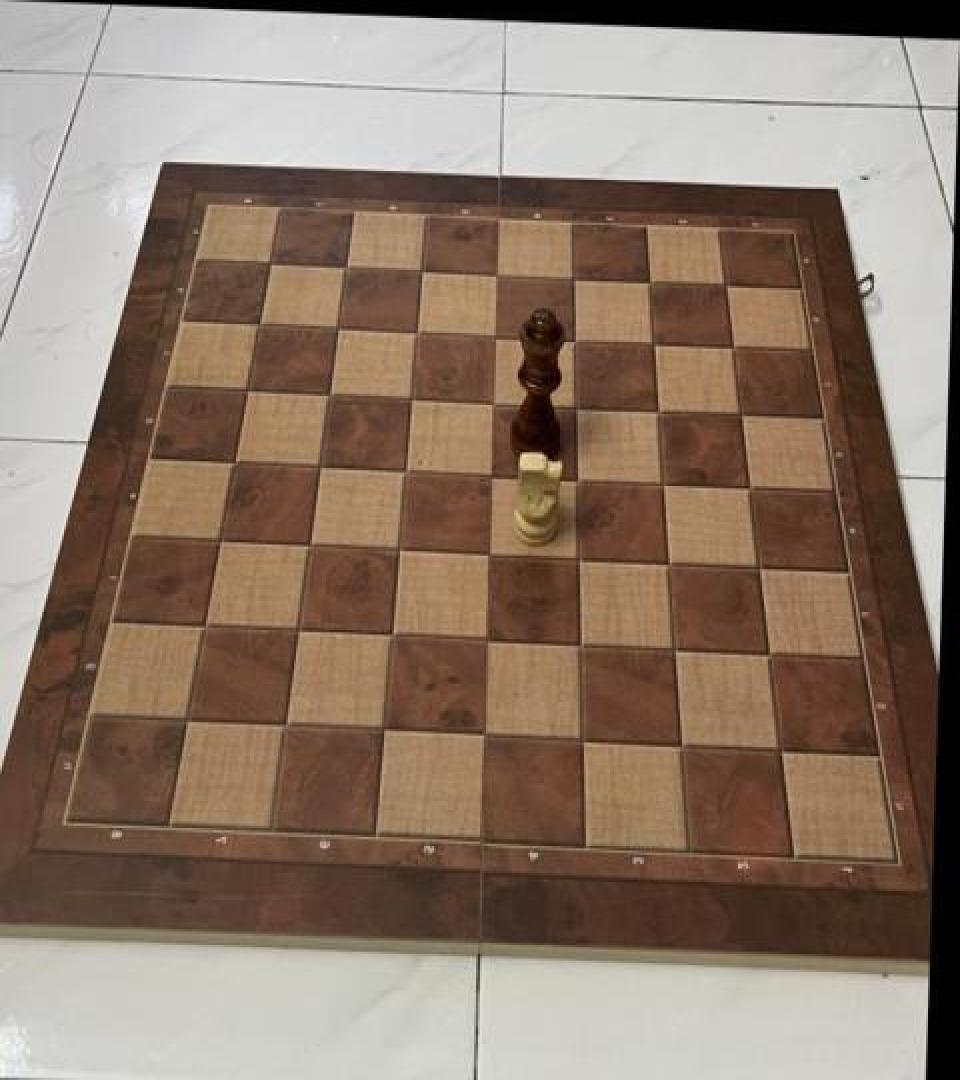xcorner: (476, 454, 510, 493), (647, 462, 681, 501), (253, 243, 287, 281), (329, 246, 363, 284), (406, 251, 440, 289), (482, 255, 516, 293), (557, 259, 591, 297), (633, 262, 667, 300), (709, 267, 743, 305), (242, 304, 276, 342), (322, 307, 356, 345), (401, 312, 435, 350), (480, 316, 514, 354), (559, 320, 593, 358), (637, 324, 671, 362), (716, 328, 750, 366), (231, 369, 265, 407), (313, 374, 347, 412), (396, 378, 430, 416), (478, 382, 512, 420), (560, 386, 594, 424), (642, 390, 676, 428), (724, 395, 758, 433), (218, 441, 252, 479), (304, 446, 338, 484), (390, 450, 424, 488), (562, 459, 596, 497), (733, 467, 767, 505), (204, 519, 238, 557), (294, 523, 328, 561), (384, 528, 418, 566), (474, 532, 508, 570), (563, 537, 597, 575), (653, 541, 687, 579), (742, 546, 776, 584), (189, 604, 223, 642), (283, 609, 317, 647), (377, 614, 411, 652), (471, 619, 505, 657), (565, 624, 599, 662), (659, 628, 693, 666), (752, 632, 786, 670), (172, 699, 206, 737), (271, 703, 305, 741), (370, 708, 404, 746), (468, 714, 502, 752), (567, 718, 601, 756), (665, 722, 699, 760), (763, 727, 797, 765)
